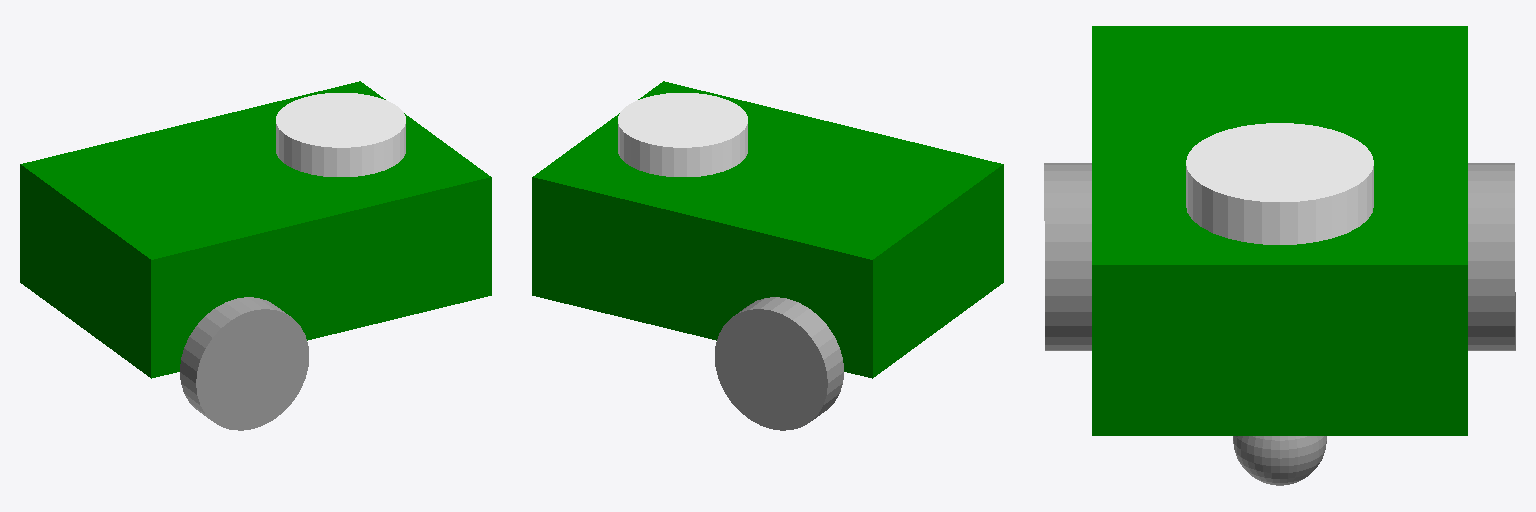
URDF robot description (my_robot):
<?xml version="1.0"?>
<robot name="my_robot">
    <material name="green">
        <color rgba="0 0.6 0 1"/>
    </material>
    <material name="white">
        <color rgba="1 1 1 1"/>
    </material>
    <material name="gray">
        <color rgba="0.7 0.7 0.7 1"/>
    </material>
    
    <link name="base_link">
        <visual>
            <geometry>
                <box size="0.6 0.4 0.2" />
            </geometry>
            <origin xyz="0 0 0.1" rpy="0 0 0"/>
            <material name="green"/>
        </visual>
    </link>
    
    <link name="lidar">
    <visual>
        <geometry>
            <cylinder radius="0.1" length="0.05" />
        </geometry>
        <origin xyz="0 0 0" rpy="0 0 0" />
        <material name="white"/>
    </visual>
</link>

<joint name="base_lidar_joint" type="fixed">
    <parent link="base_link"/>
    <child link="lidar"/>
    <origin xyz="0.15 0 0.225" rpy="0 0 0"/>
</joint>

<link name="left_wheel">
    <visual>
        <geometry>
            <cylinder radius="0.1" length="0.05" />
        </geometry>
        <origin xyz="0 0 0.025" rpy="0 0 0" />
        <material name="gray"/>
    </visual>
</link>

<joint name="base_left_wheel_joint" type="continuous">
    <parent link="base_link"/>
    <child link="left_wheel"/>
    <origin xyz="-0.15 0.2 0" rpy="-1.57 0 0"/>
    <axis xyz="0 0 1"/>
</joint>

<link name="right_wheel">
    <visual>
        <geometry>
            <cylinder radius="0.1" length="0.05" />
        </geometry>
        <origin xyz="0 0 0.025" rpy="0 0 0" />
        <material name="gray"/>
    </visual>
</link>

<joint name="base_right_wheel_joint" type="continuous">
    <parent link="base_link"/>
    <child link="right_wheel"/>
    <origin xyz="-0.15 -0.25 0" rpy="-1.57 0 0"/>
    <axis xyz="0 0 1"/>
</joint>


<link name="caster_wheel">
    <visual>
        <geometry>
            <sphere radius="0.05" />
        </geometry>
        <origin xyz="0 0 0" rpy="0 0 0" />
        <material name="gray" />
    </visual>
</link>

<joint name="base_caster_wheel_joint" type="fixed">
    <parent link="base_link" />
    <child link="caster_wheel"/>
    <origin xyz="0.2 0 -0.05" rpy="0 0 0" />
</joint>

<link name="base_footprint"/>

<joint name="base_joint" type="fixed">
     <parent link="base_footprint" />
     <child link="base_link" />
     <origin xyz="0 0 0.1" rpy="0 0 0" />
 </joint>


</robot>

--- What the picture shows (computed from the rendered views, not written in the file) ---
3 views of the same robot in one strip: view 1: azimuth 30°, elevation 25°; view 2: azimuth 150°, elevation 25°; view 3: azimuth 270°, elevation 25° (orthographic).
Model my_robot with 6 links and 5 joints (2 continuous, 3 fixed), rooted at base_footprint, posed every joint at zero.
Visible links, largest first — view 1: base_link, right_wheel, lidar; view 2: base_link, left_wheel, lidar; view 3: base_link, lidar, left_wheel, right_wheel, caster_wheel.
Boxes of the visible links, x1,y1,x2,y2 form: base_link: [20, 81, 491, 378]; right_wheel: [180, 297, 308, 430]; lidar: [276, 93, 405, 176]; base_link: [532, 81, 1003, 378]; left_wheel: [715, 297, 843, 430]; lidar: [618, 93, 747, 176]; base_link: [1092, 26, 1467, 435]; lidar: [1186, 123, 1373, 244]; left_wheel: [1468, 163, 1515, 350]; right_wheel: [1044, 163, 1091, 350]; caster_wheel: [1233, 436, 1326, 485].
Size in the robot's own frame: 0.6 by 0.5002 by 0.35 metres.
Geometry: primitives only (box / cylinder / sphere), no mesh files.
